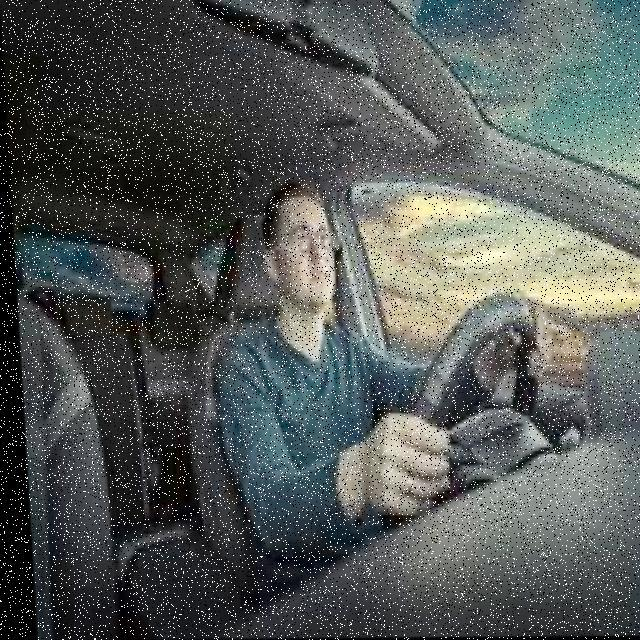noSeatbelt: (205, 286, 404, 533)
